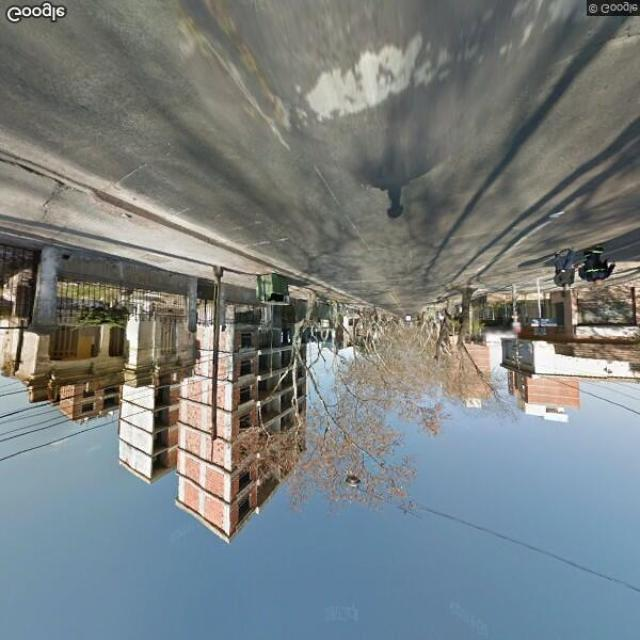garbage container: (247, 271, 302, 312)
